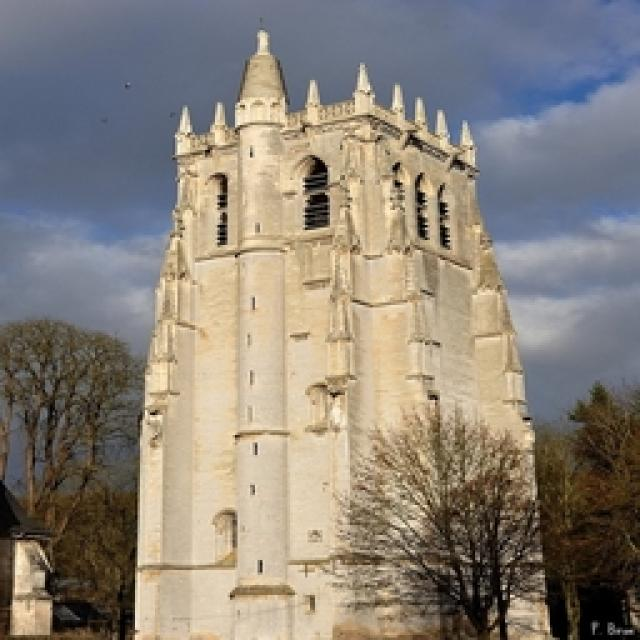Abbey: (102, 26, 549, 640)
